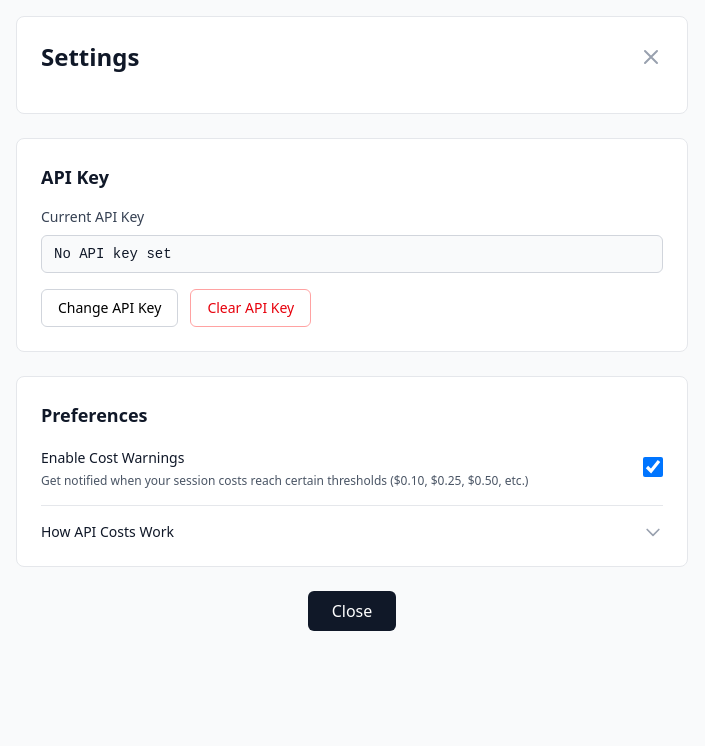
Scenario: Settings Component › How API Costs Work › should toggle cost explanation when clicked
Check: the text "Pricing (as of January 2025)" is not shown
# Click to show
Step 1. Click the button "How API Costs Work" → (107, 532), box [41,522,663,542]
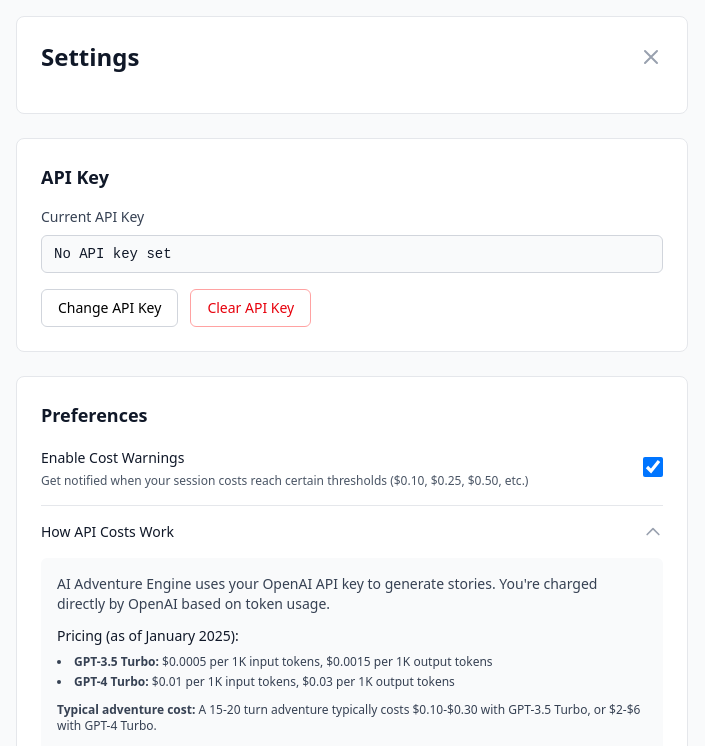
Check: the text "Pricing (as of January 2025):" is shown, box [57,626,239,645]
# Click to hide
Step 2. Click the button "How API Costs Work" → (107, 532), box [41,522,663,542]
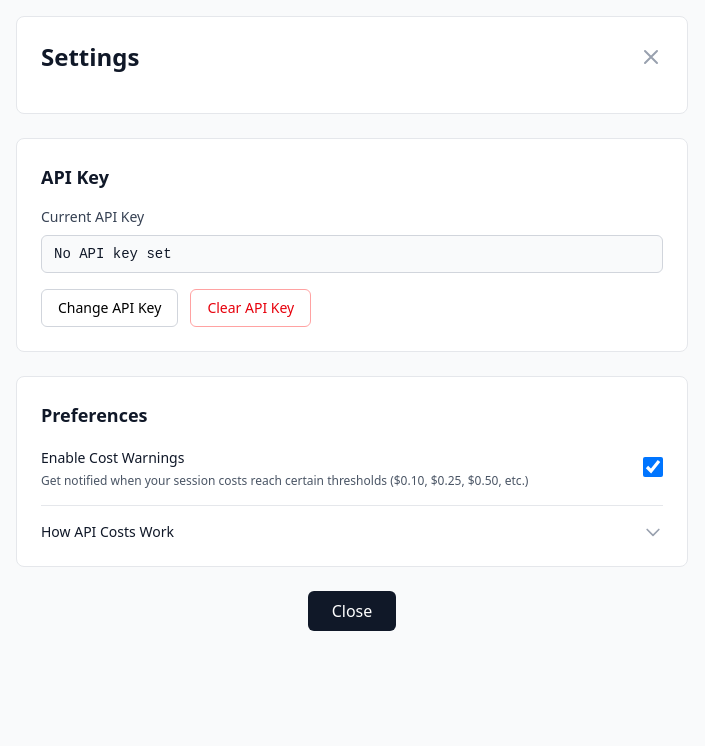
Check: the text "Pricing (as of January 2025)" is gone
